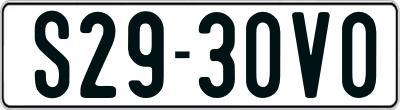0: (244, 9, 280, 99), (341, 12, 376, 101)
2: (80, 9, 120, 99)
3: (199, 10, 236, 97)
9: (125, 9, 161, 96)
S: (35, 10, 70, 102)
V: (290, 11, 334, 98)
